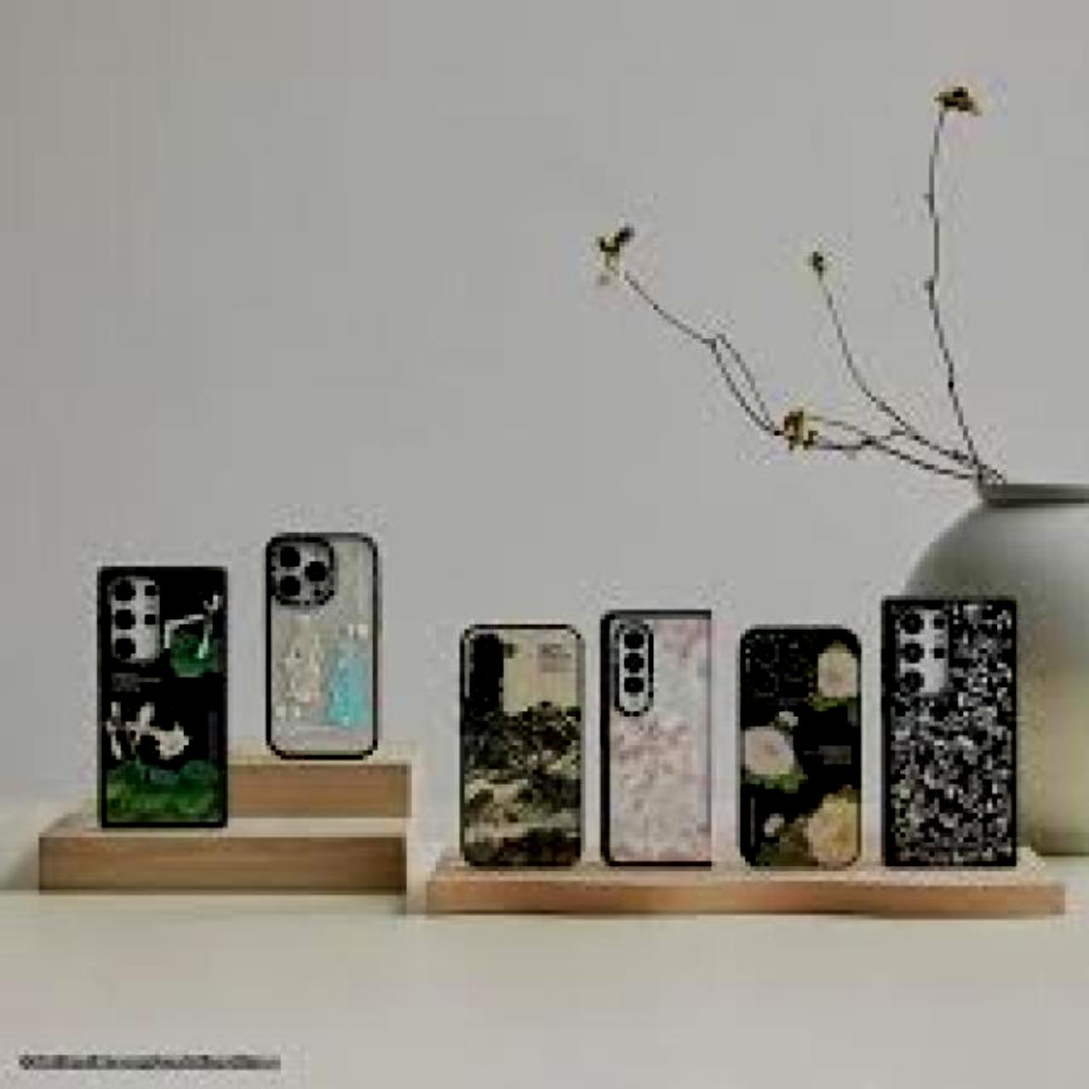phone: (876, 587, 1024, 873), (98, 564, 231, 828), (738, 620, 874, 869), (458, 619, 585, 872), (603, 605, 721, 867), (267, 532, 381, 760)
